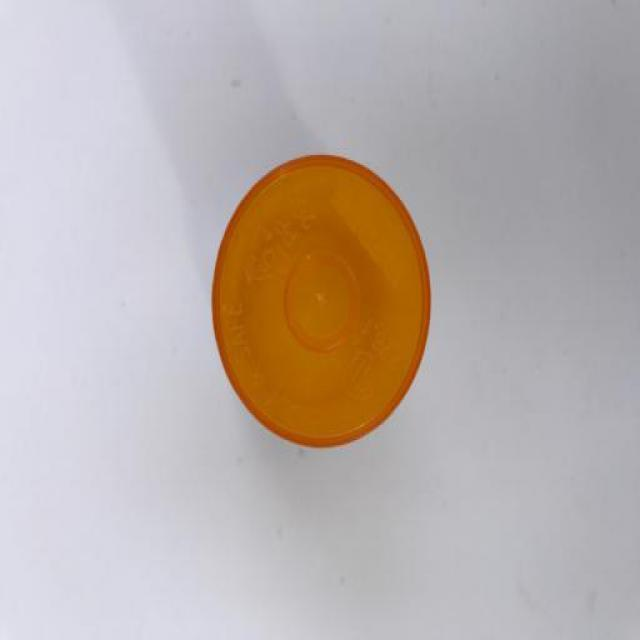Plastic: (209, 147, 432, 449)
